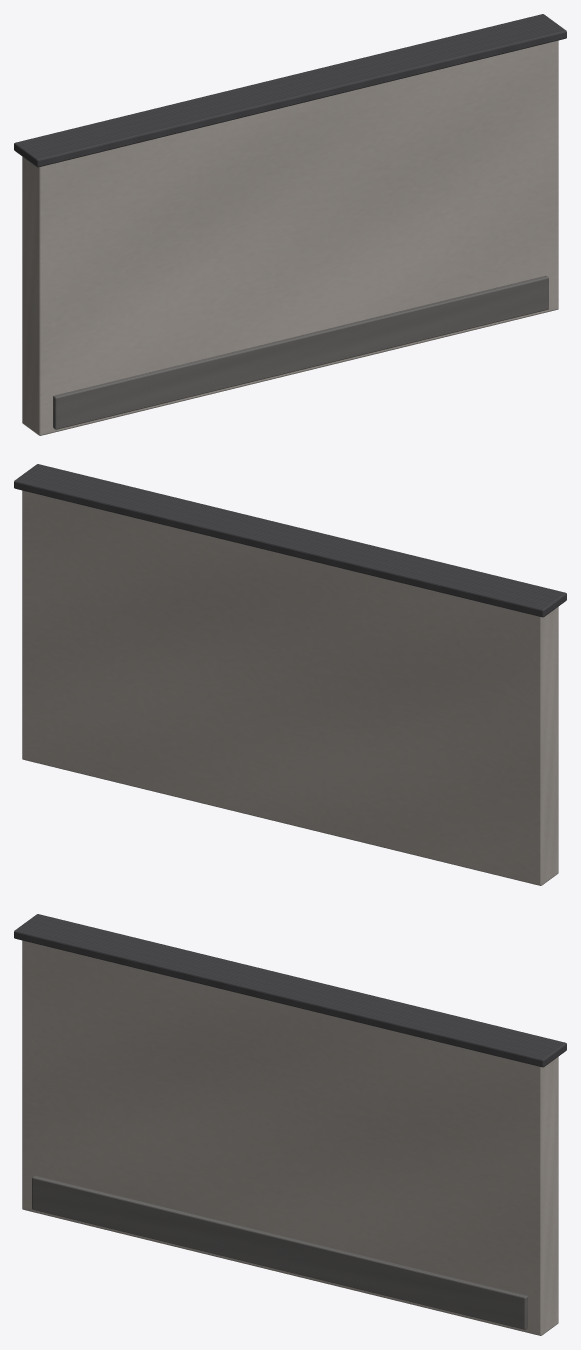
Rendered from low_partition.glb.
3 renders of one model, top to bottom at view 1: azimuth 30°, elevation 25°; view 2: azimuth 150°, elevation 25°; view 3: azimuth 330°, elevation 25°, orthographic.
Visible parts, largest first — view 1: partition, skirting.001, top_cap; view 2: partition, top_cap; view 3: partition, skirting.001, top_cap.
Boxes of the visible parts, box(x1,y1,x2,y2) form: partition: box(22, 40, 558, 435); skirting.001: box(53, 275, 548, 429); top_cap: box(14, 14, 566, 167); partition: box(22, 490, 558, 885); top_cap: box(14, 464, 566, 617); partition: box(22, 940, 558, 1335); skirting.001: box(32, 1175, 527, 1329); top_cap: box(14, 914, 566, 1067).
Bounding box in the file's own units: 2.04 × 1.03 × 0.16.
3 materials, 3 textured.
